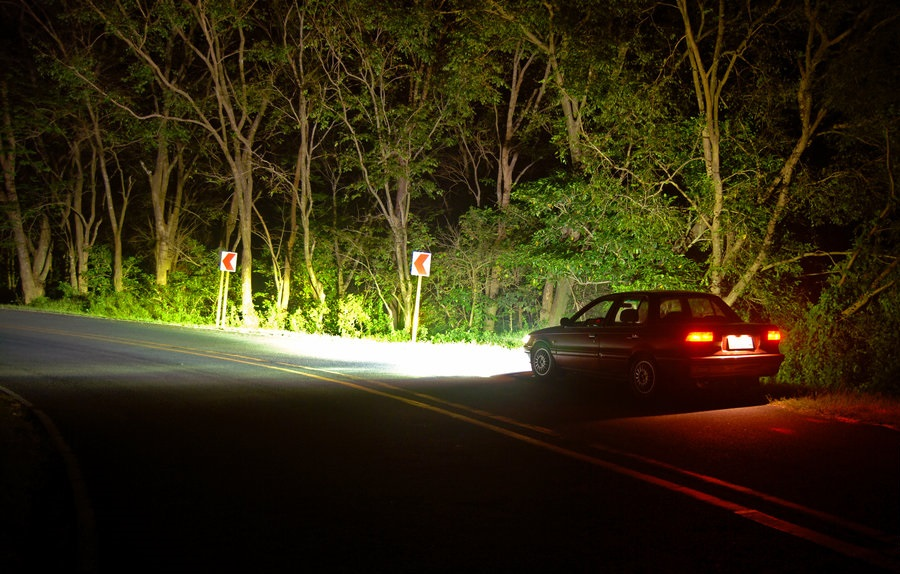car: (514, 284, 797, 407)
